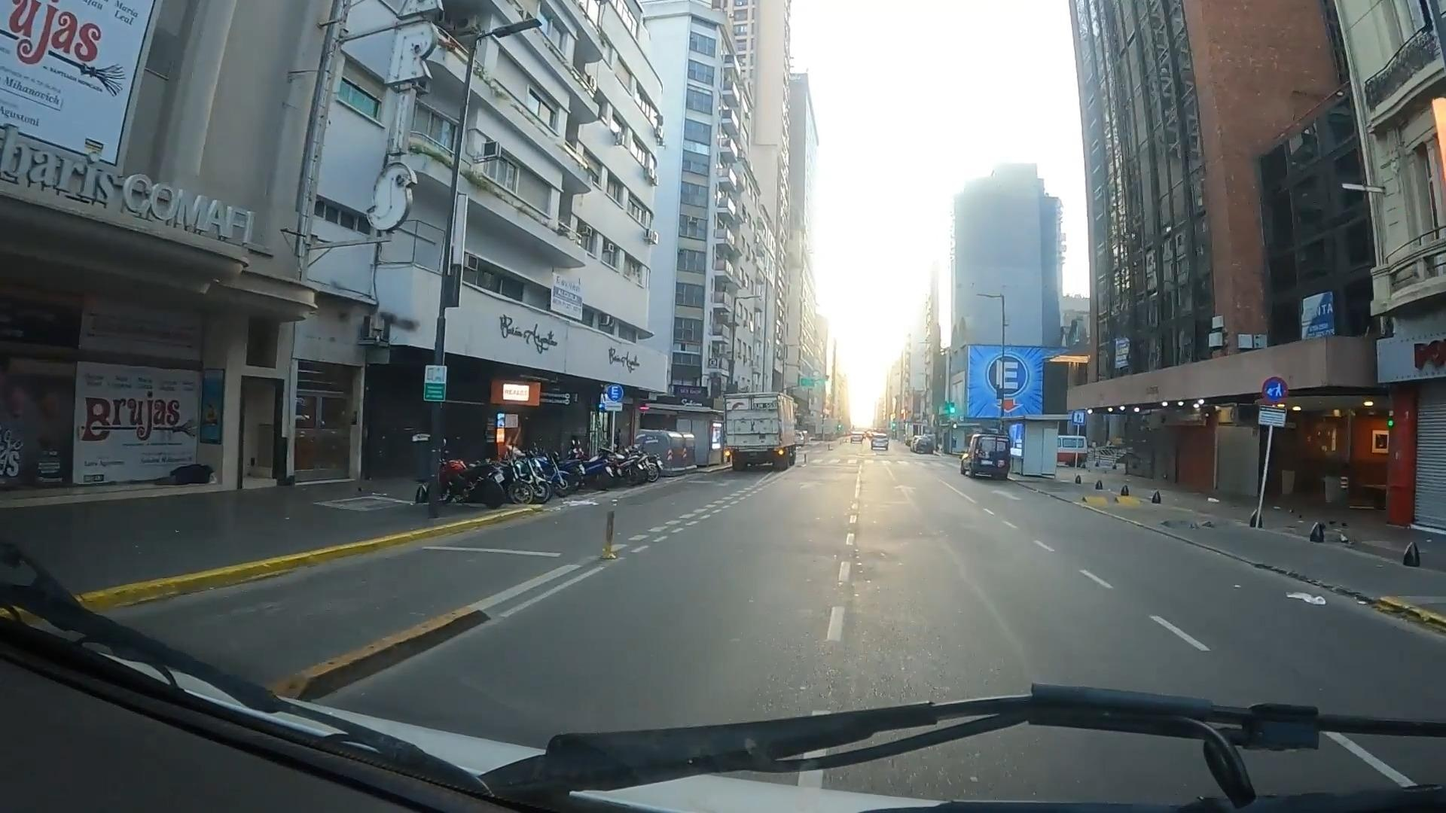Ice: (87, 433, 1445, 728)
